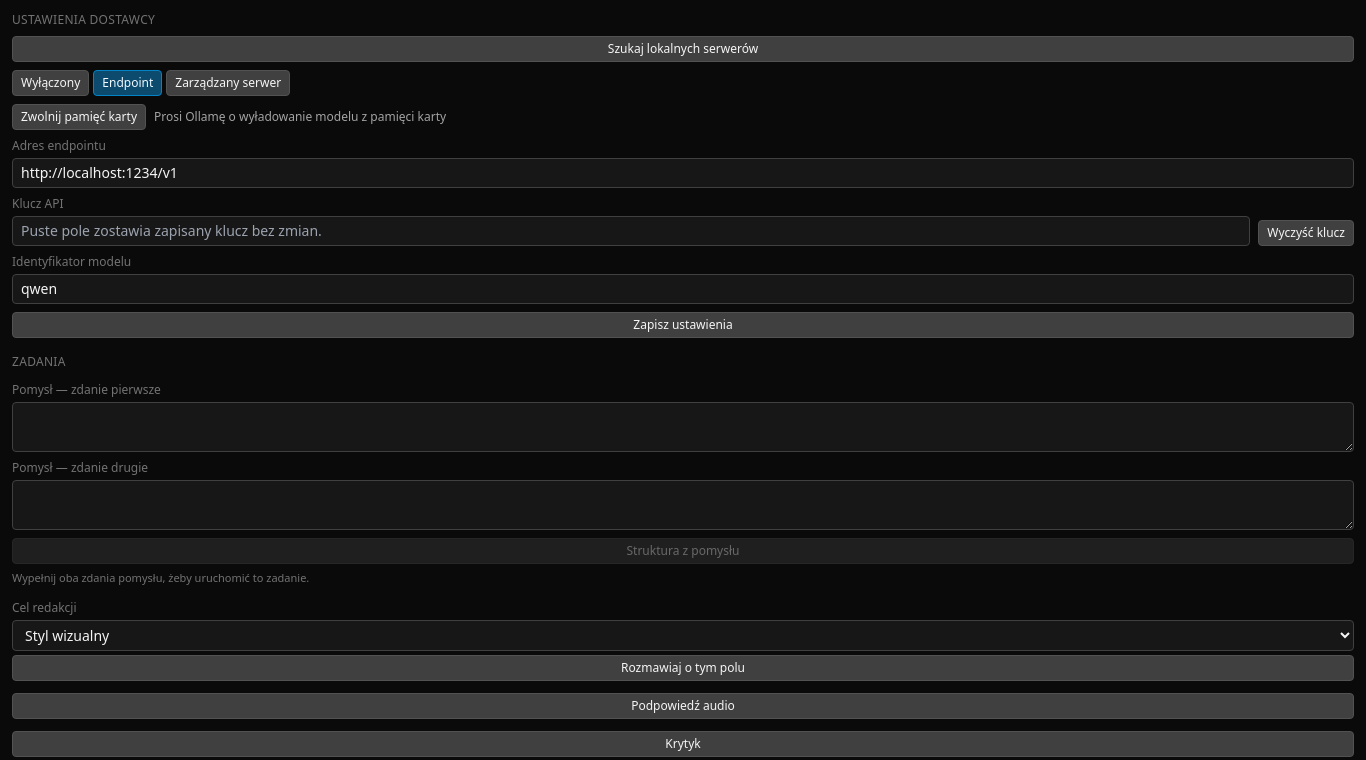
LlmPanel — przycisk zwolnienia pamięci karty, Ollama › nieudane zwolnienie pokazuje powód i nie znika po cichu
The image size is (1366, 760).
Click the button "Zwolnij pamięć karty" at (79, 117), box [12, 104, 146, 130]
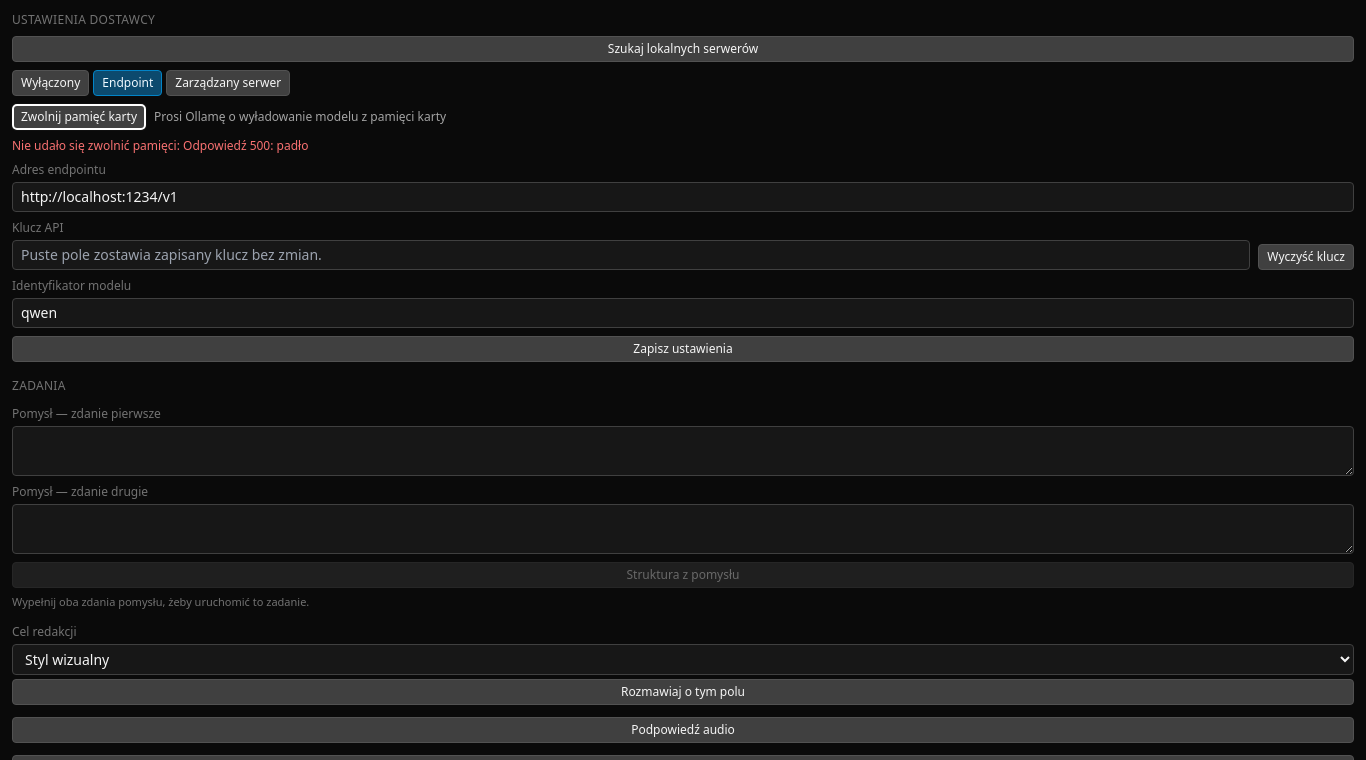
Expected: the text "Nie udało się zwolnić pamięci: Odpowiedź 500: padło" is shown, [12, 137, 308, 154]
